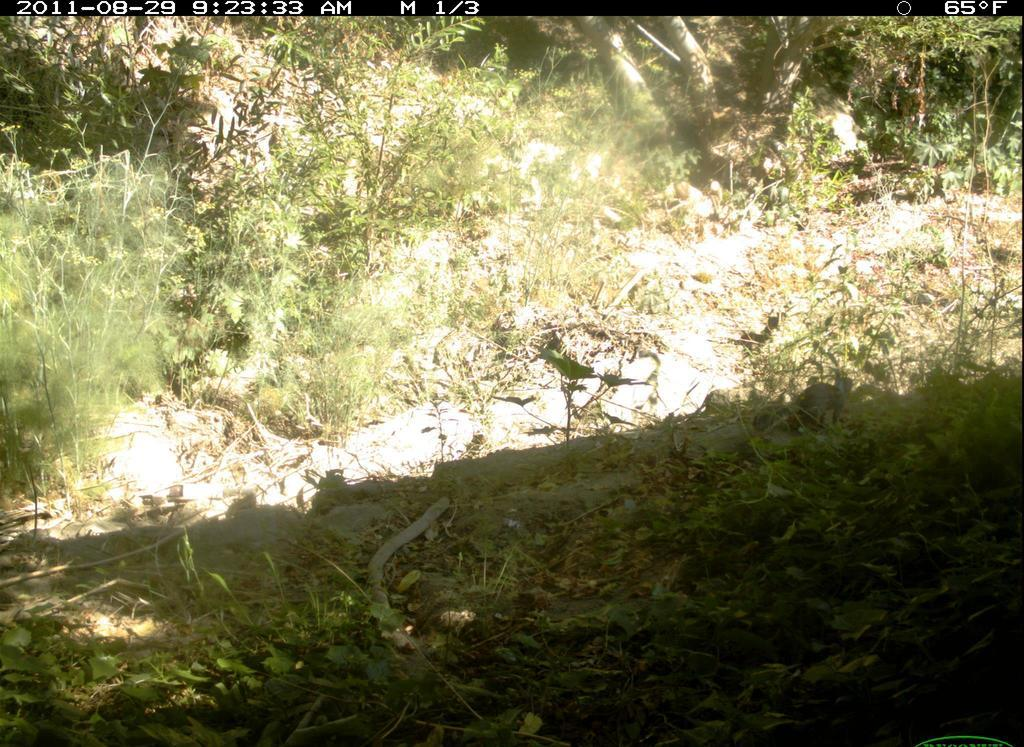squirrel: (769, 369, 864, 440)
